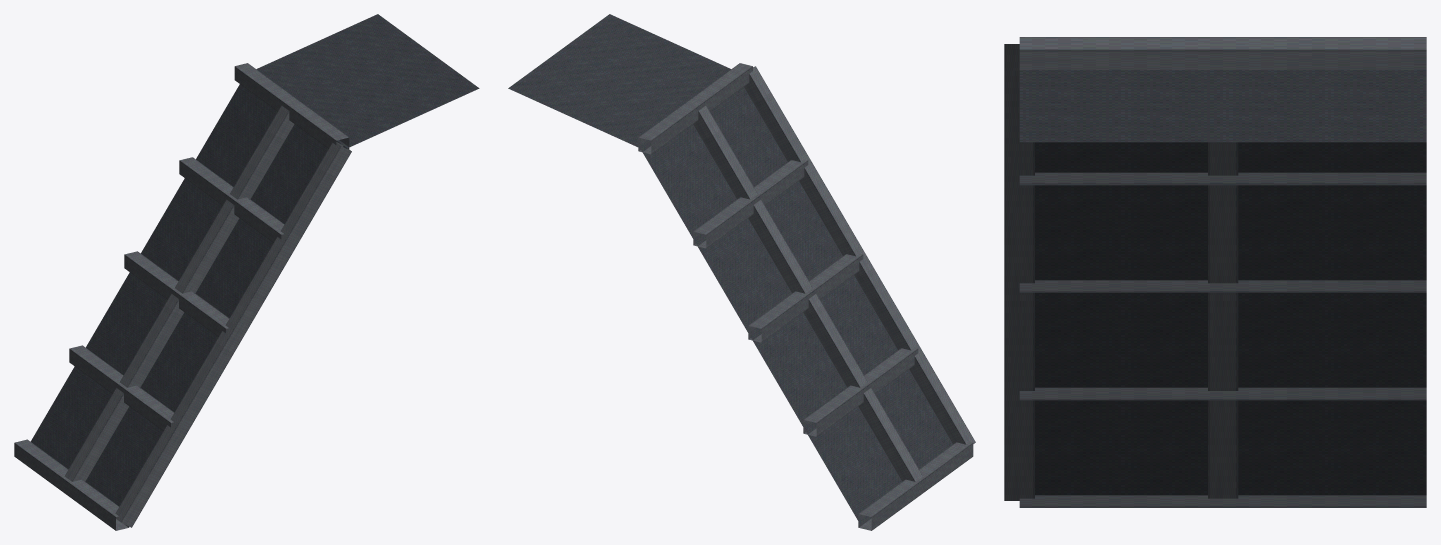
The model's file is mtn_lattice_slope_c.glb.
The picture shows the model from 3 angles, left to right: view 1: azimuth 30°, elevation 25°; view 2: azimuth 150°, elevation 25°; view 3: azimuth 270°, elevation 25°; orthographic projection. The views are drawn at different scales.
Visible parts, largest first — view 1: mtn_lattice_slope_c; view 2: mtn_lattice_slope_c; view 3: mtn_lattice_slope_c.
Boxes of the visible parts, x1,y1,x2,y2 form: mtn_lattice_slope_c: (14,14,479,530); mtn_lattice_slope_c: (508,14,975,530); mtn_lattice_slope_c: (1004,37,1426,507).
Bounding box in the file's own units: 8.26 × 7.67 × 4.15.
Materials: 2 (2 with a texture image).
